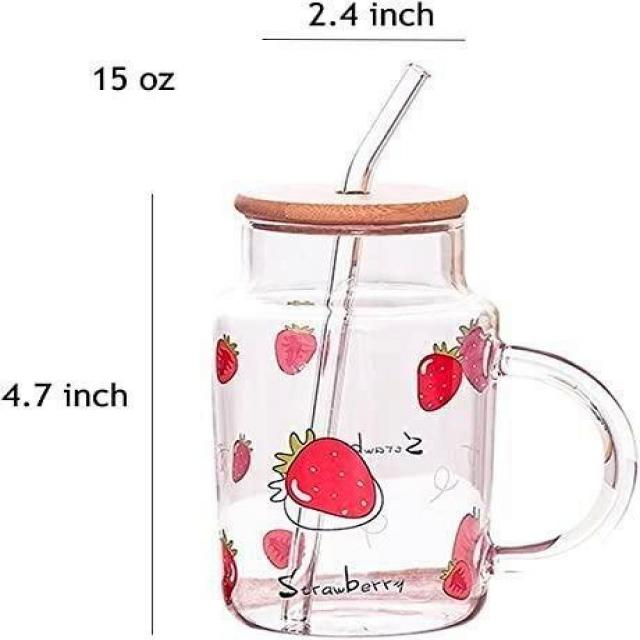glass-mug: (201, 176, 640, 640)
